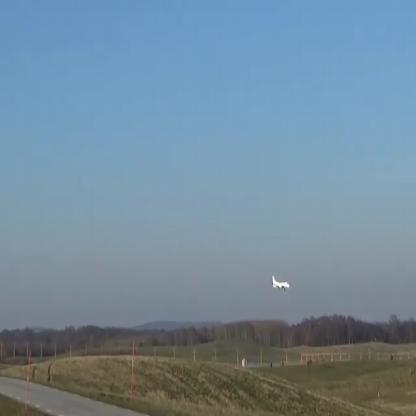CIV_Plane: (271, 275, 290, 291)
